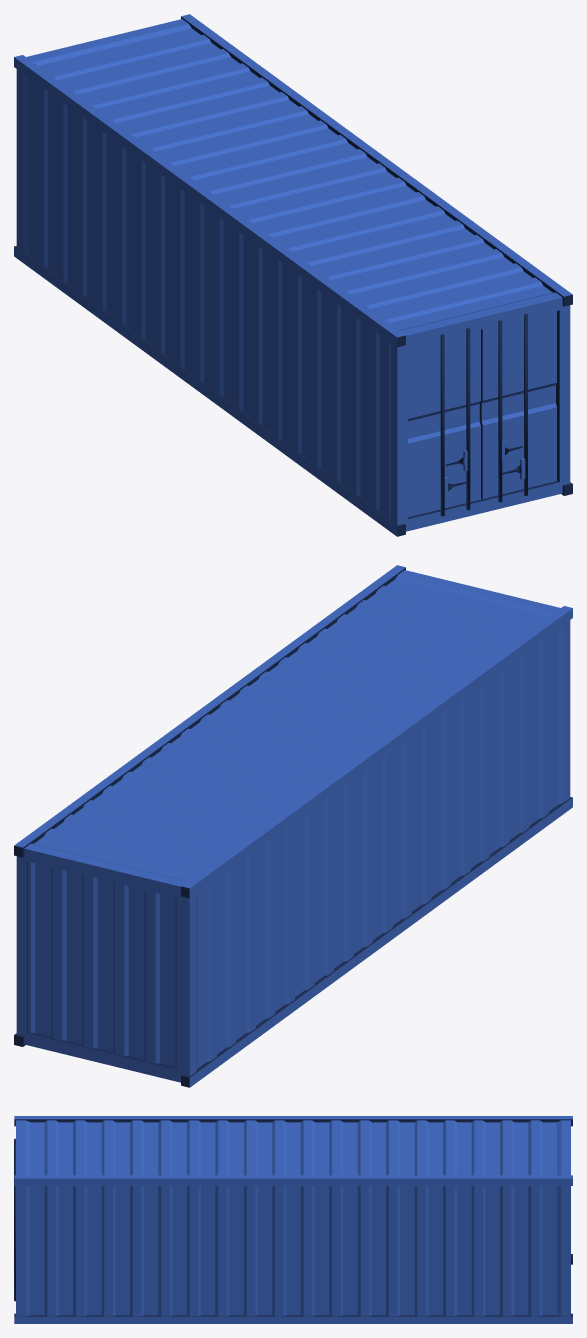
File: GEO_ShippingContainer.fbx
The picture shows the model from 3 angles, top to bottom: view 1: azimuth 30°, elevation 25°; view 2: azimuth 150°, elevation 25°; view 3: azimuth 270°, elevation 25°; orthographic projection. The views are drawn at different scales.
Visible parts, largest first — view 1: GEO_ShippingContainer; view 2: GEO_ShippingContainer; view 3: GEO_ShippingContainer.
Boxes of the visible parts, box(x1,y1,x2,y2) form: GEO_ShippingContainer: box(14, 14, 572, 536); GEO_ShippingContainer: box(14, 565, 572, 1087); GEO_ShippingContainer: box(14, 1116, 572, 1323).
Size of the model in its own units: 480 by 520 by 1813.
